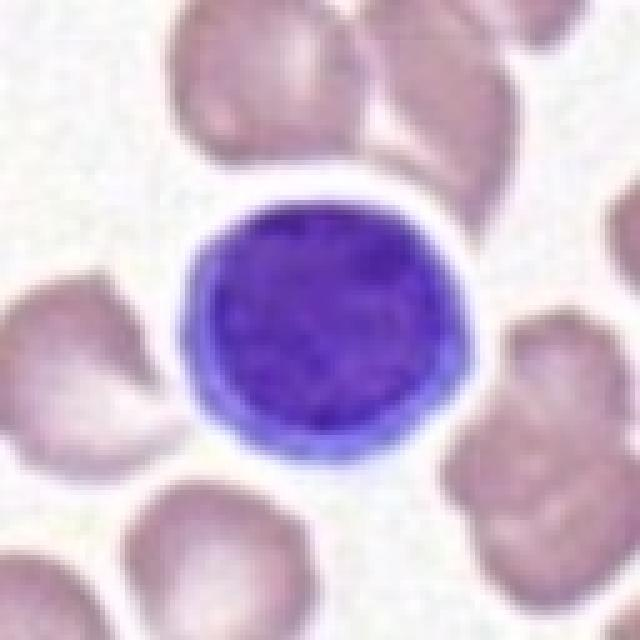lympho: (178, 197, 481, 474)
